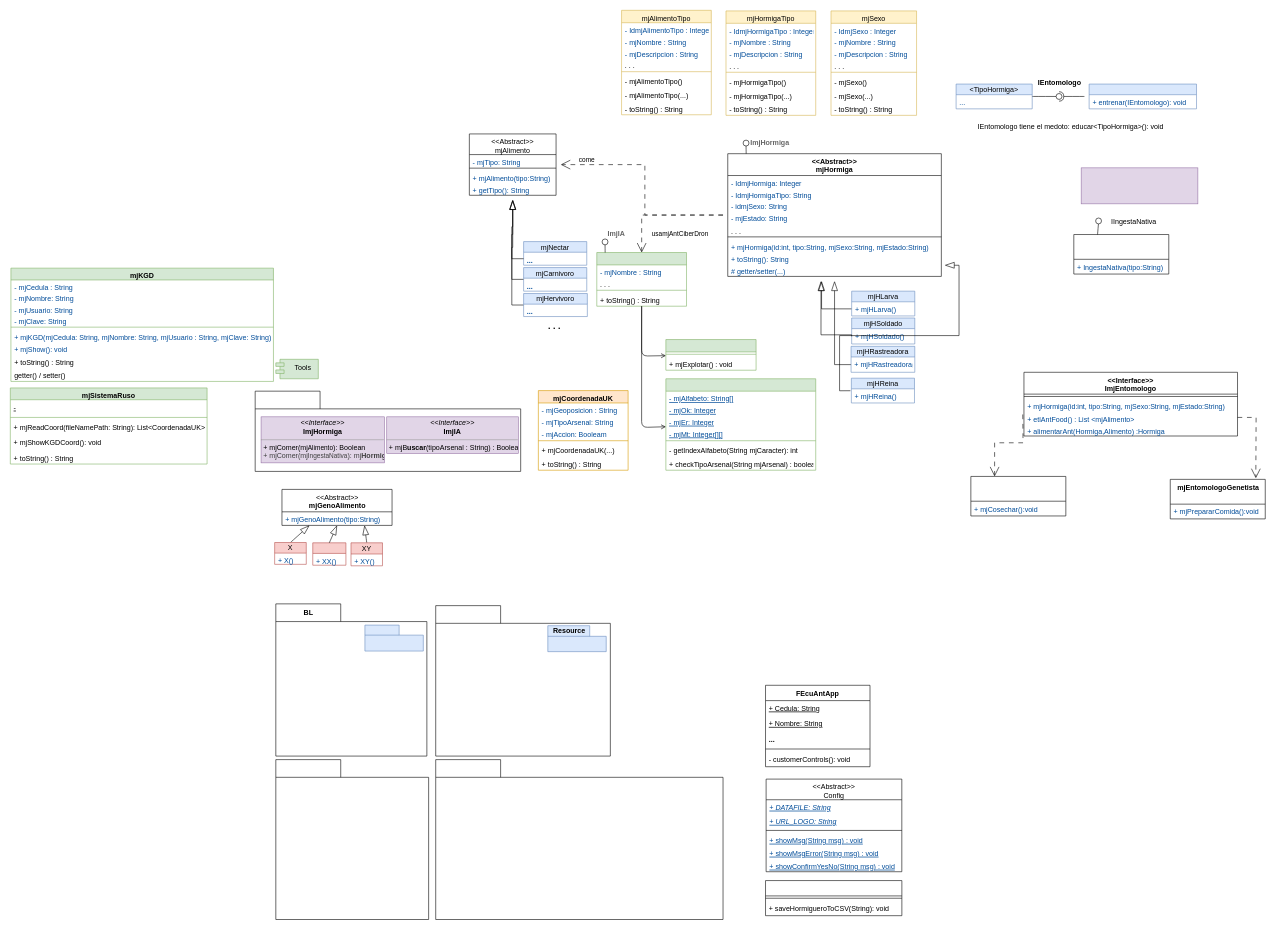
Some shapes in this 1276 by 930 pixel diagram are drawn without their labels. Each missing label, with the box of its shape:
<<Abstract>> IngestaNativa: (1073, 234, 1169, 274)
<<Interface>> IIngestaNativa + inyectar( GenoAlimento ): boolean: (1081, 167, 1198, 204)
DAC: (275, 759, 429, 920)
Entities: (364, 625, 423, 651)
Entrenamiento: (1089, 83, 1197, 109)
GUI: (435, 605, 610, 756)
HormigueroDAC: (765, 880, 902, 916)
Infra: (435, 759, 723, 920)
Interfaces: (255, 391, 521, 471)
mjAntCiberDron: (596, 252, 687, 306)
mjAutomata: (665, 378, 816, 470)
mjBBA: (665, 339, 756, 370)
mjEntomologo: (970, 476, 1066, 516)
XX: (312, 542, 346, 565)
